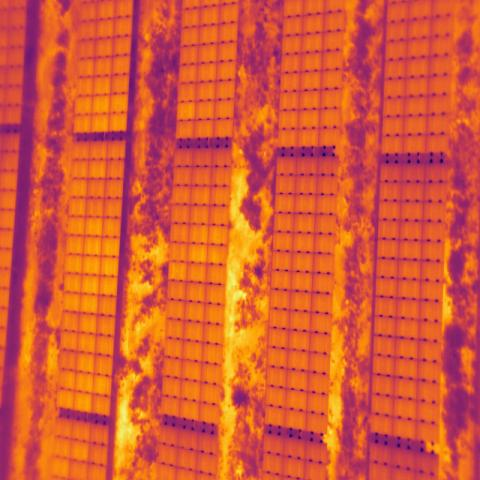fault: (177, 100, 196, 123)
